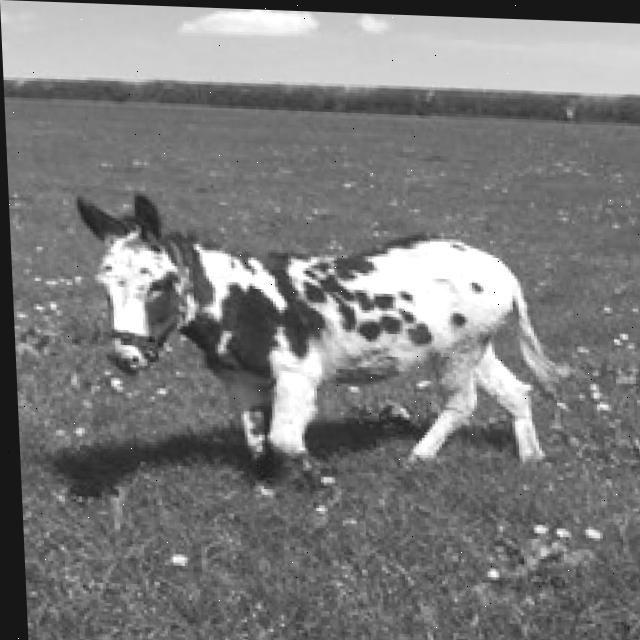Donkey: (74, 188, 567, 506)
